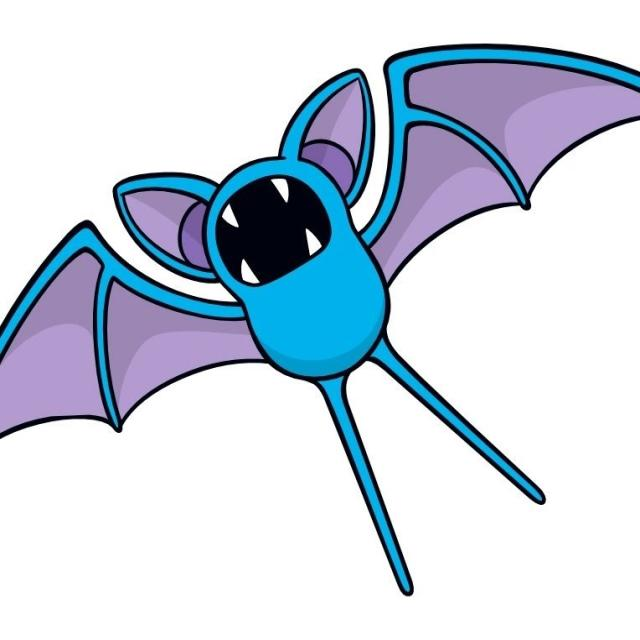Zubat: (87, 67, 535, 447)
